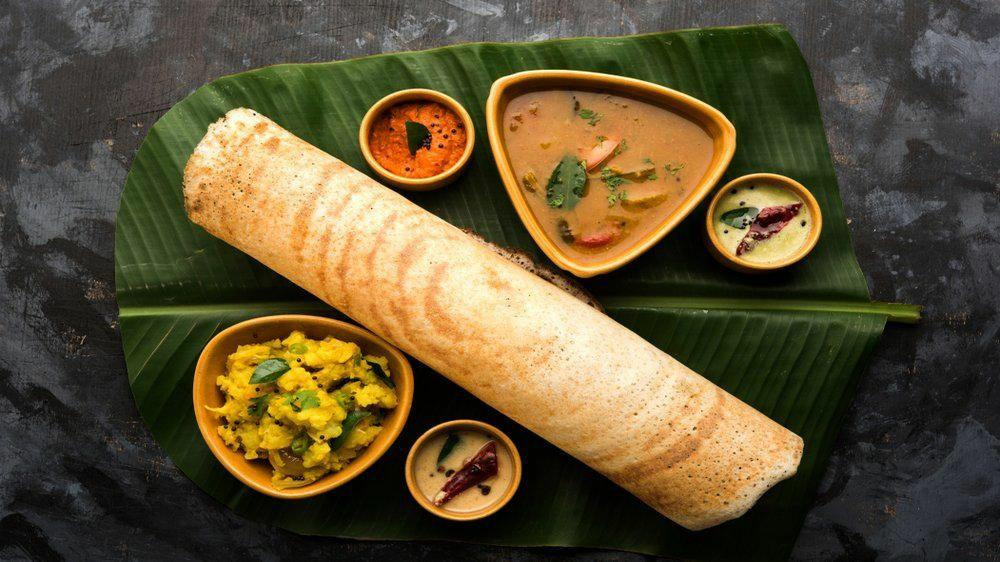CoconutChutney: (712, 183, 813, 263), (415, 430, 511, 513)
Dosa: (182, 108, 803, 530)
